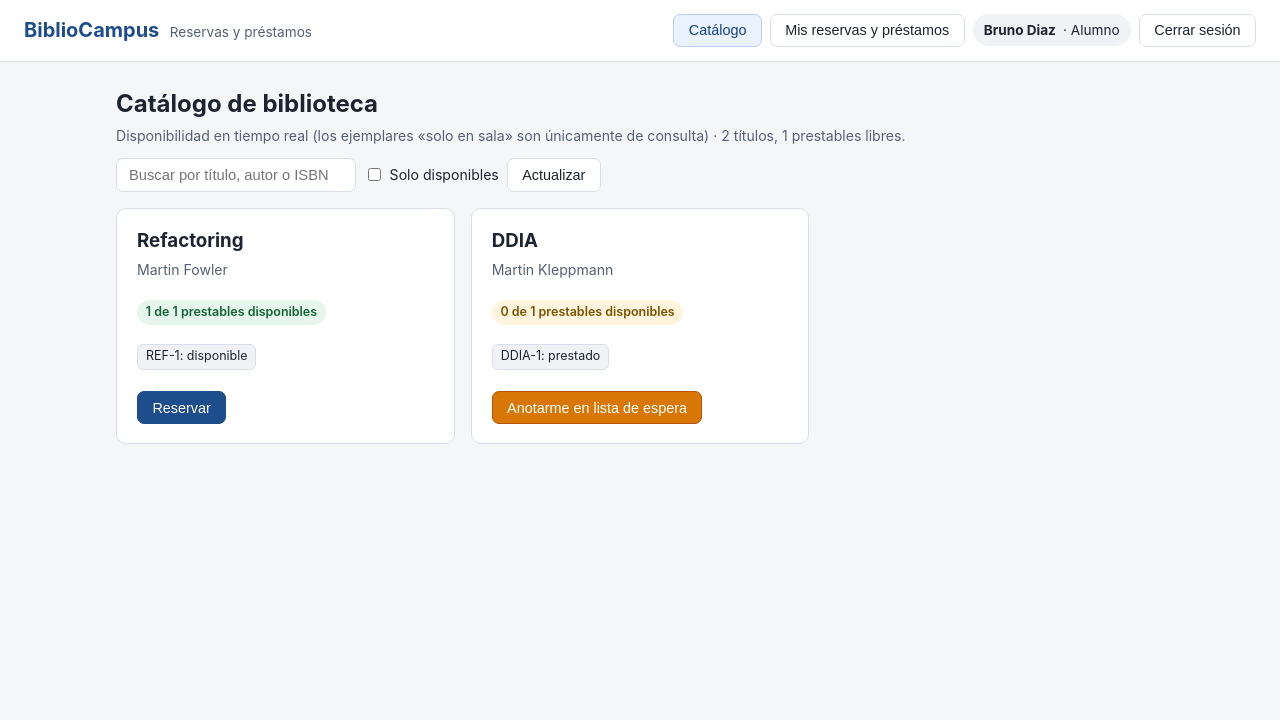
Test: T-16 — Pantallas de lector (reservas, préstamos y lista de espera) › permite reservar con aviso de corrimiento de 48 h hábiles y anotarse en lista de espera sin stock
Expected: the heading "Refactoring" is shown, [137,229,244,252]
Click the button "Reservar". click: (182, 408)
box: [137,391,226,424]
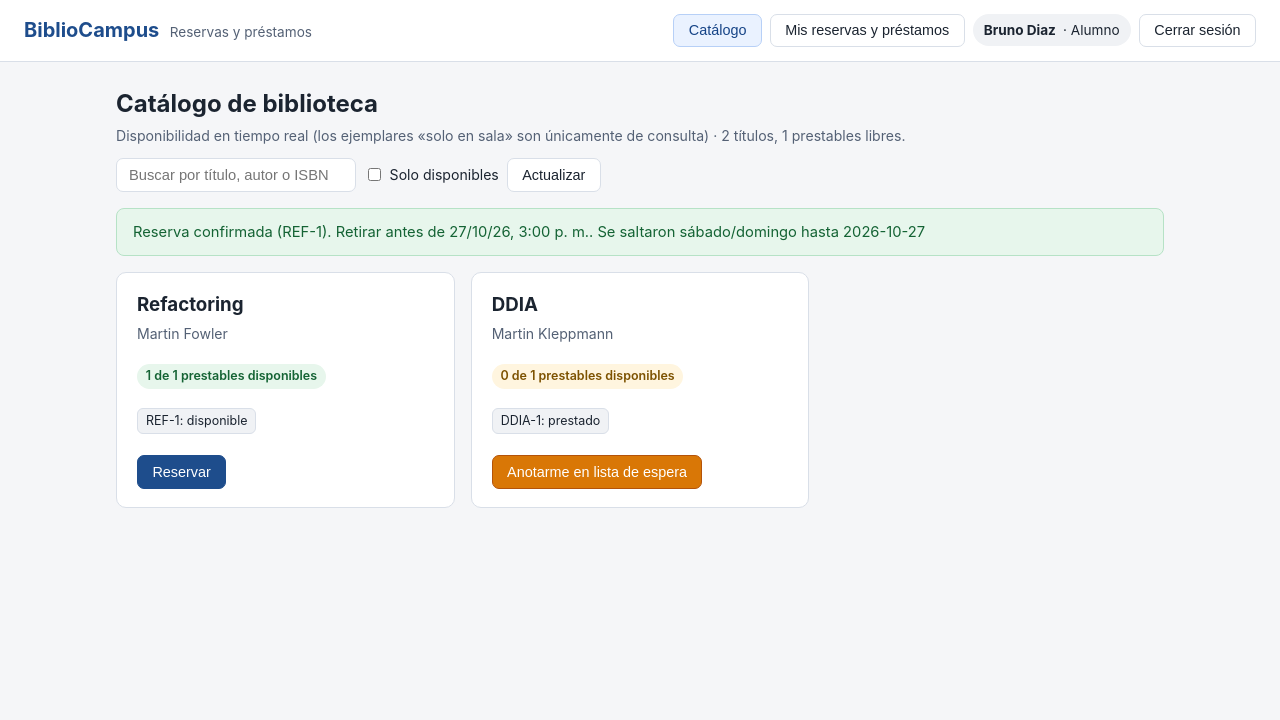
Now the text "Se saltaron sábado/domingo hasta 2026-10-27" is shown, box [133,223,925,241]
Click the button "Anotarme en lista de espera". click: (597, 472)
box: [492,455,702,488]
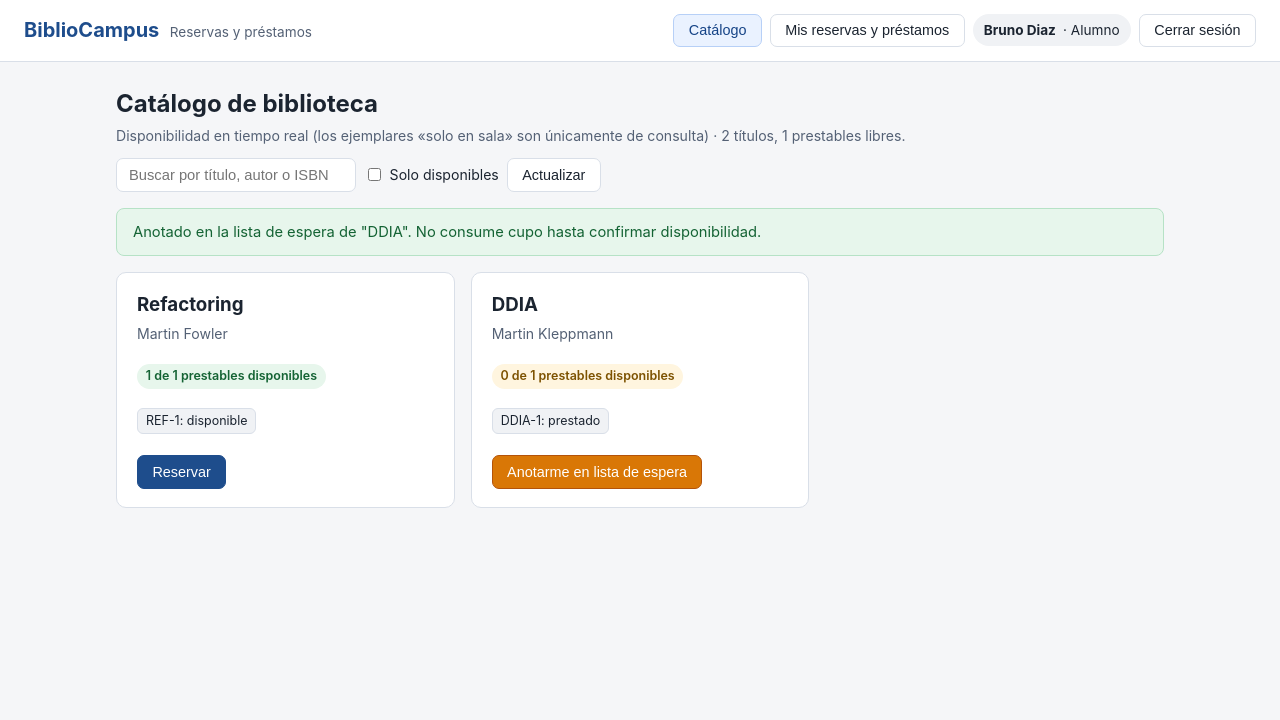
Now the text "Anotado en la lista de espera" is shown, box [133,223,761,241]
